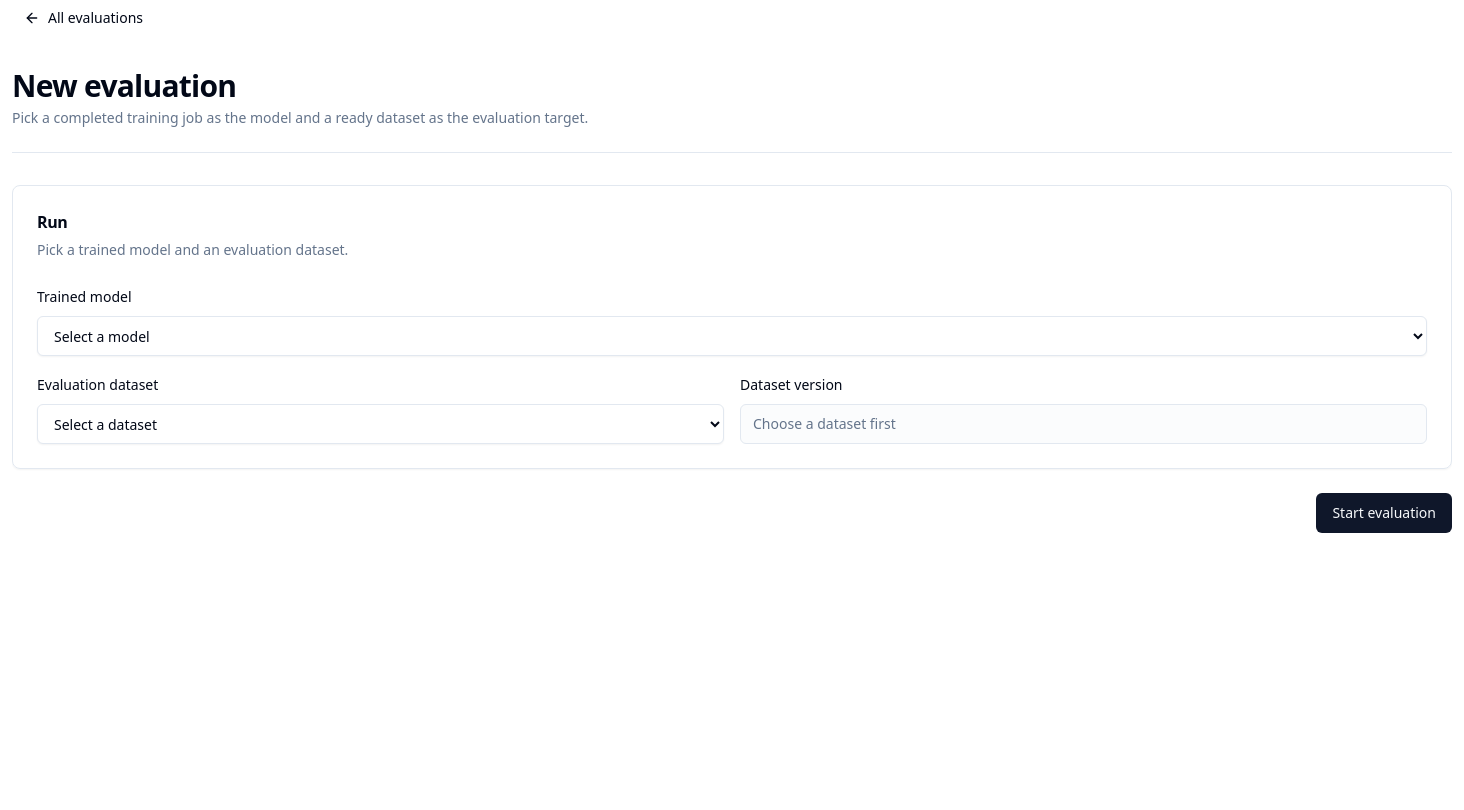
Scenario: NewEvaluationPage › shows validation errors for missing required fields
Click the button "Start evaluation".
click(1384, 513)  # box [1316,493,1452,533]
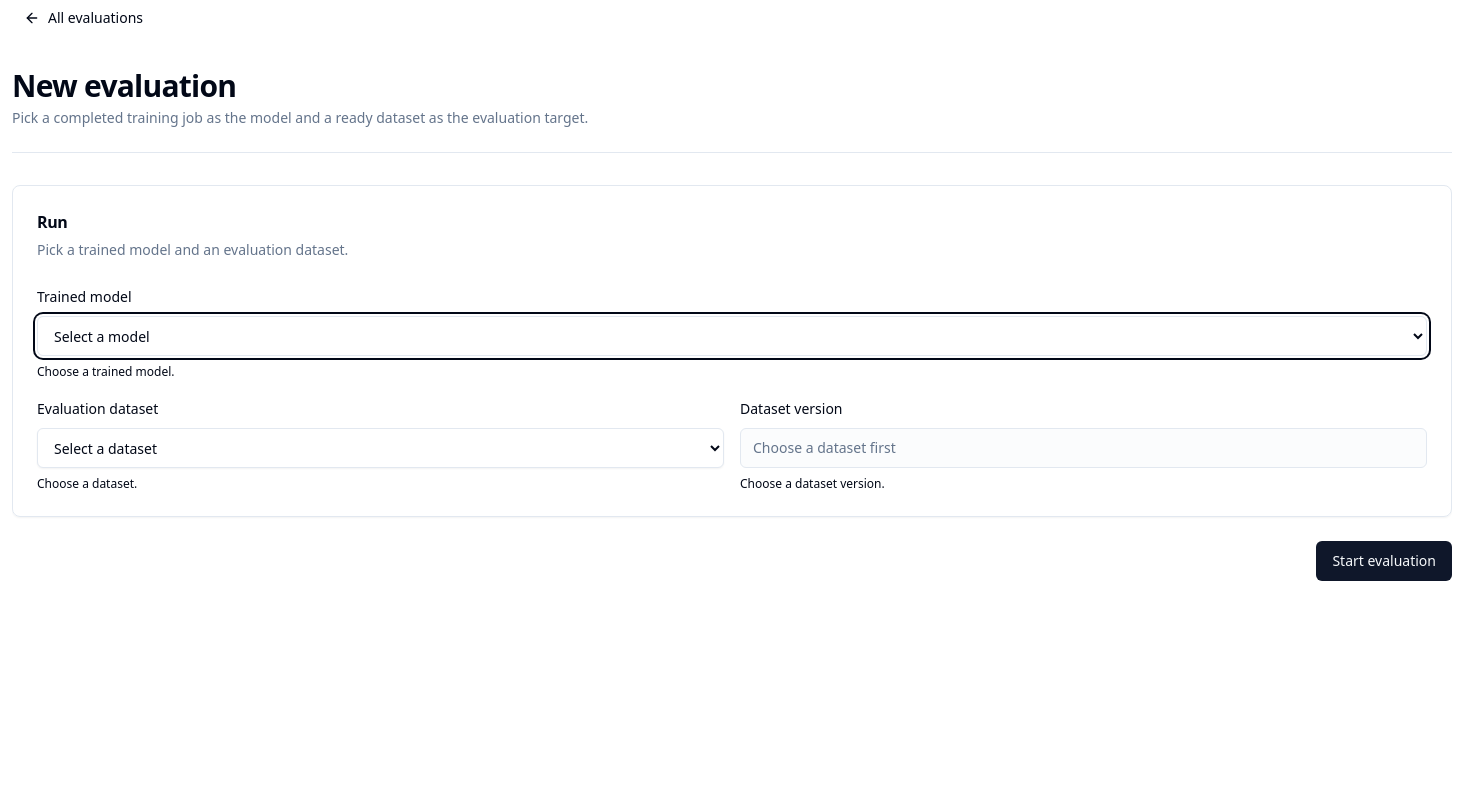
Expected: the text "Choose a trained model." is shown, [37,363,174,380]
Expected: the text "Choose a dataset." is shown, [37,475,137,492]
